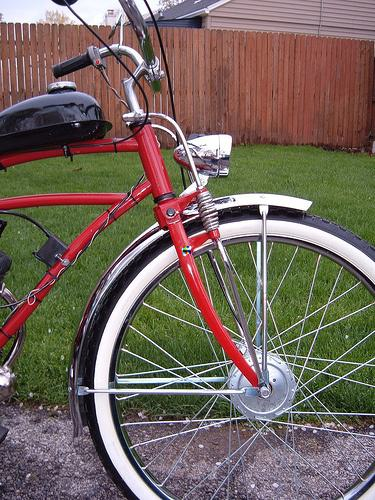car: (1, 1, 374, 500)
